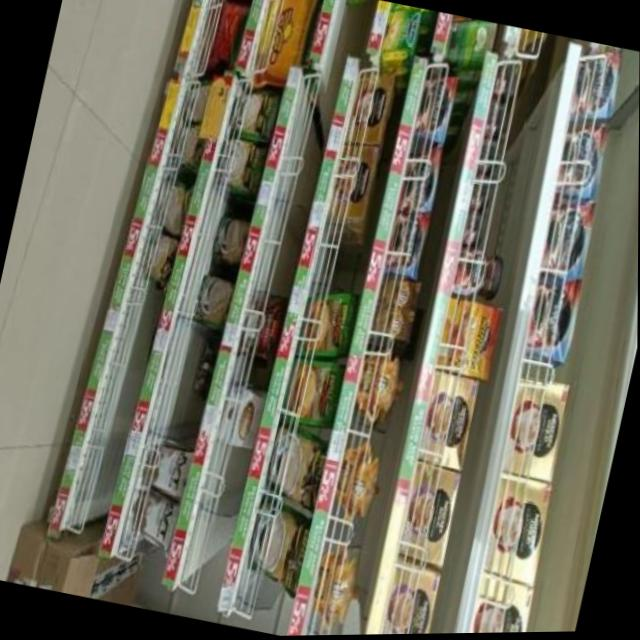Coffee: (431, 297, 502, 380), (522, 280, 579, 360), (537, 205, 594, 284), (556, 125, 605, 195), (571, 52, 620, 118), (449, 247, 505, 304), (395, 148, 440, 213), (413, 75, 456, 139), (384, 213, 428, 274), (483, 97, 509, 138), (492, 59, 517, 97), (475, 139, 500, 174), (462, 210, 486, 245), (470, 175, 493, 208)
